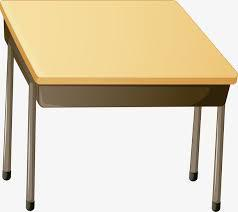desk: (4, 1, 232, 198)
